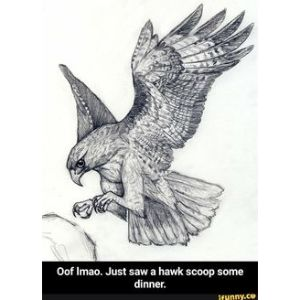hawk: (59, 3, 261, 256)
